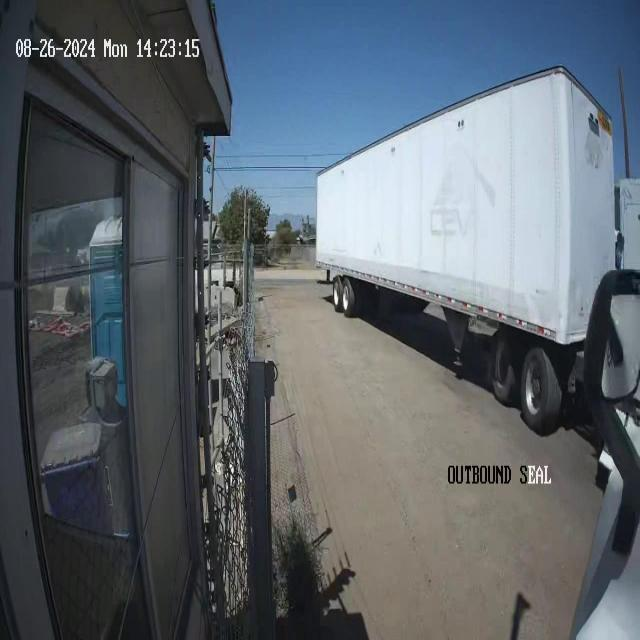TRUCK_IN: (314, 64, 618, 434)
